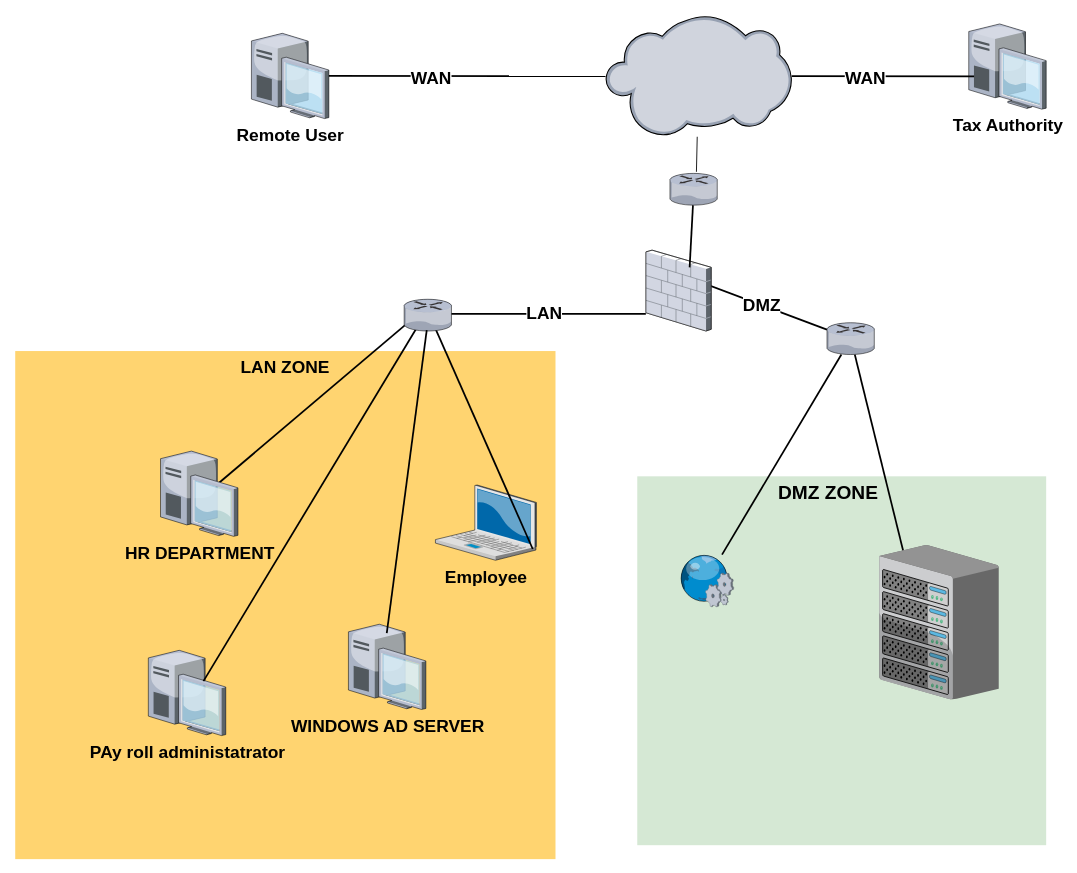
This 1077x873 diagram has some shape labels left out. Each missing label, with the centre of its shape:
DATABASE: (x=938, y=622)
Firewall: (x=678, y=290)
INTERNET: (x=698, y=75)
WEB SERVER: (x=706, y=580)
